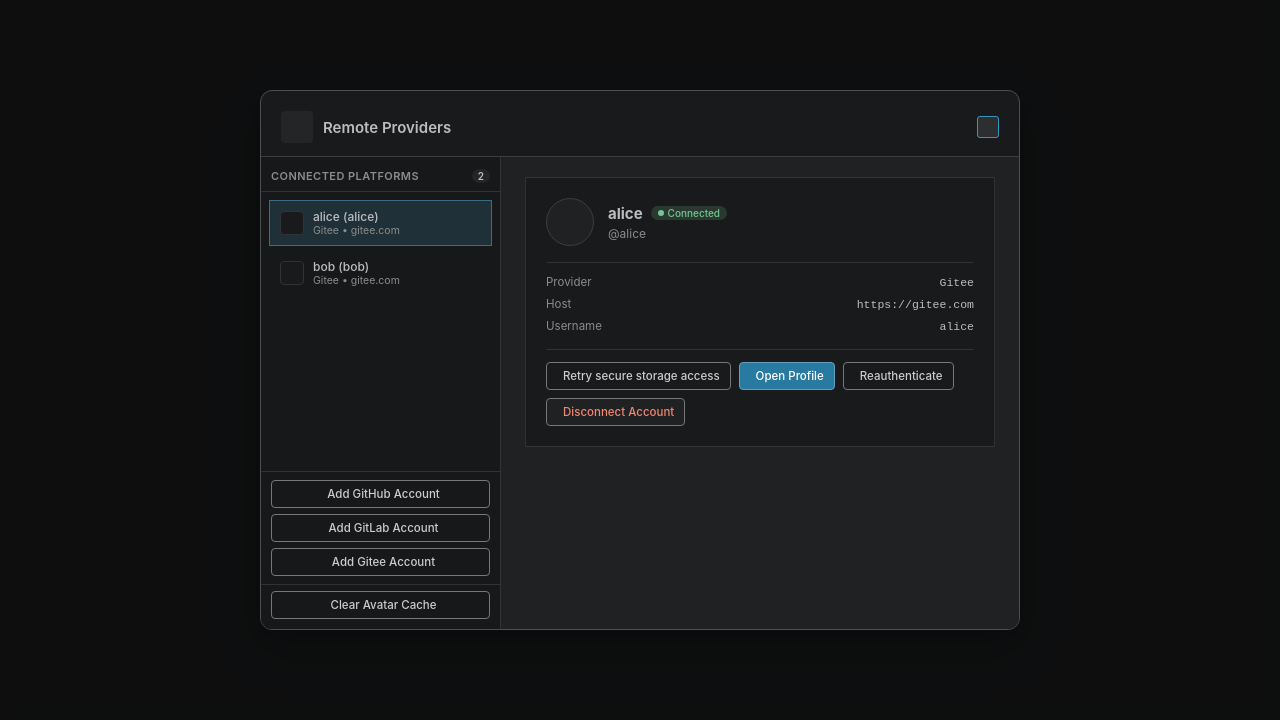
ProviderPanel › discards a late access error after switching accounts
Click the button "Retry secure storage access" at point(638, 376), box [546,362,731,390]
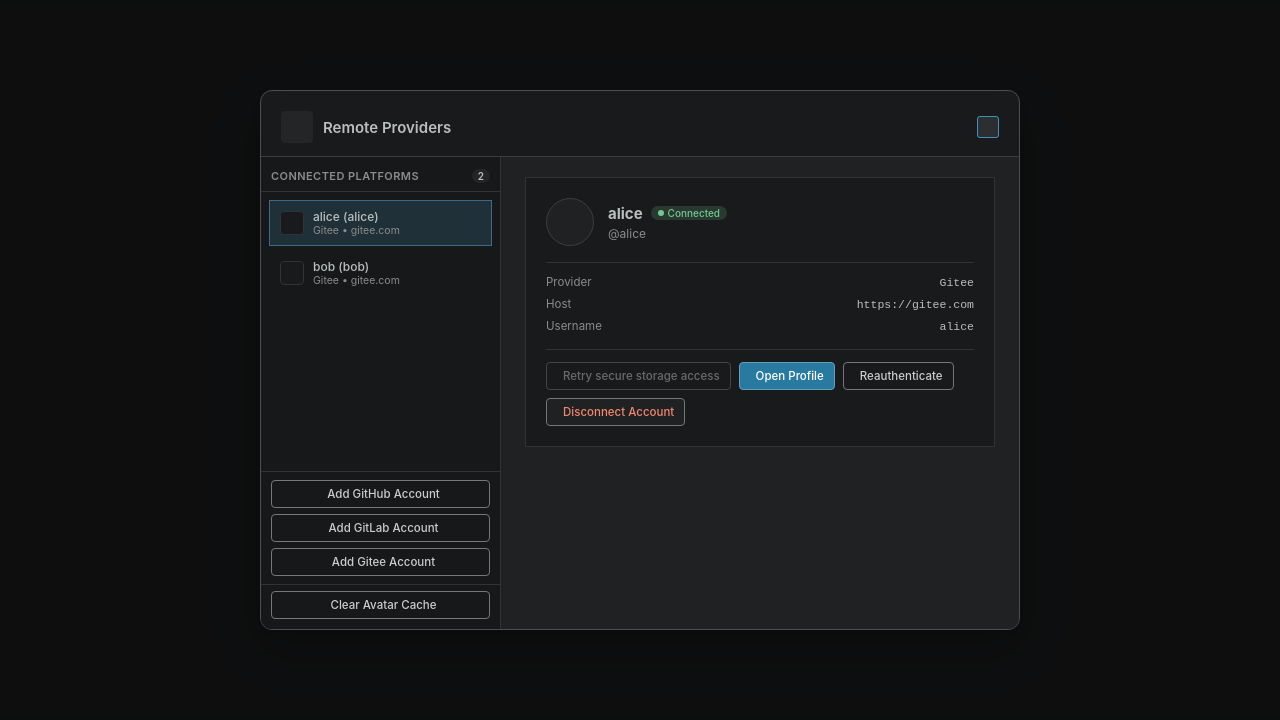
Click the button "bob (bob) Gitee • gitee.com" at point(380, 273), box [269,250,492,296]
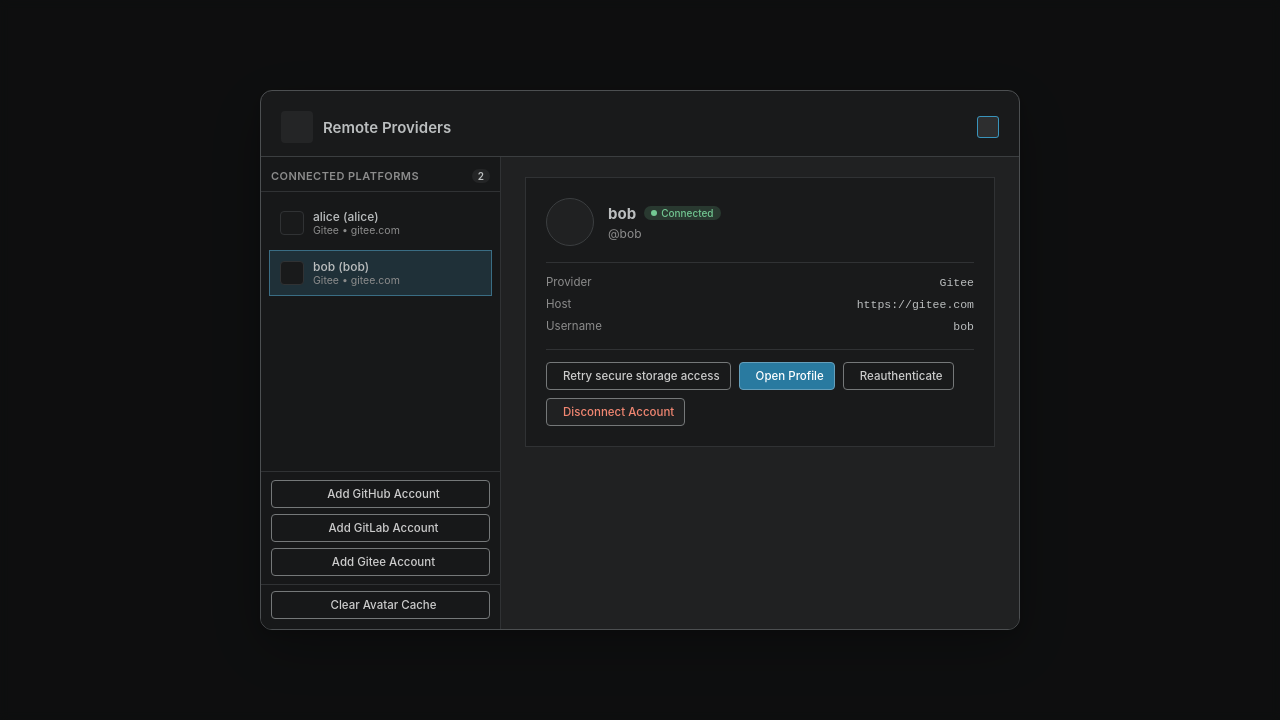
Now the text "@bob" is shown, box [608,226,642,240]
Now the button "Retry secure storage access" is enabled, box [546,362,731,390]
